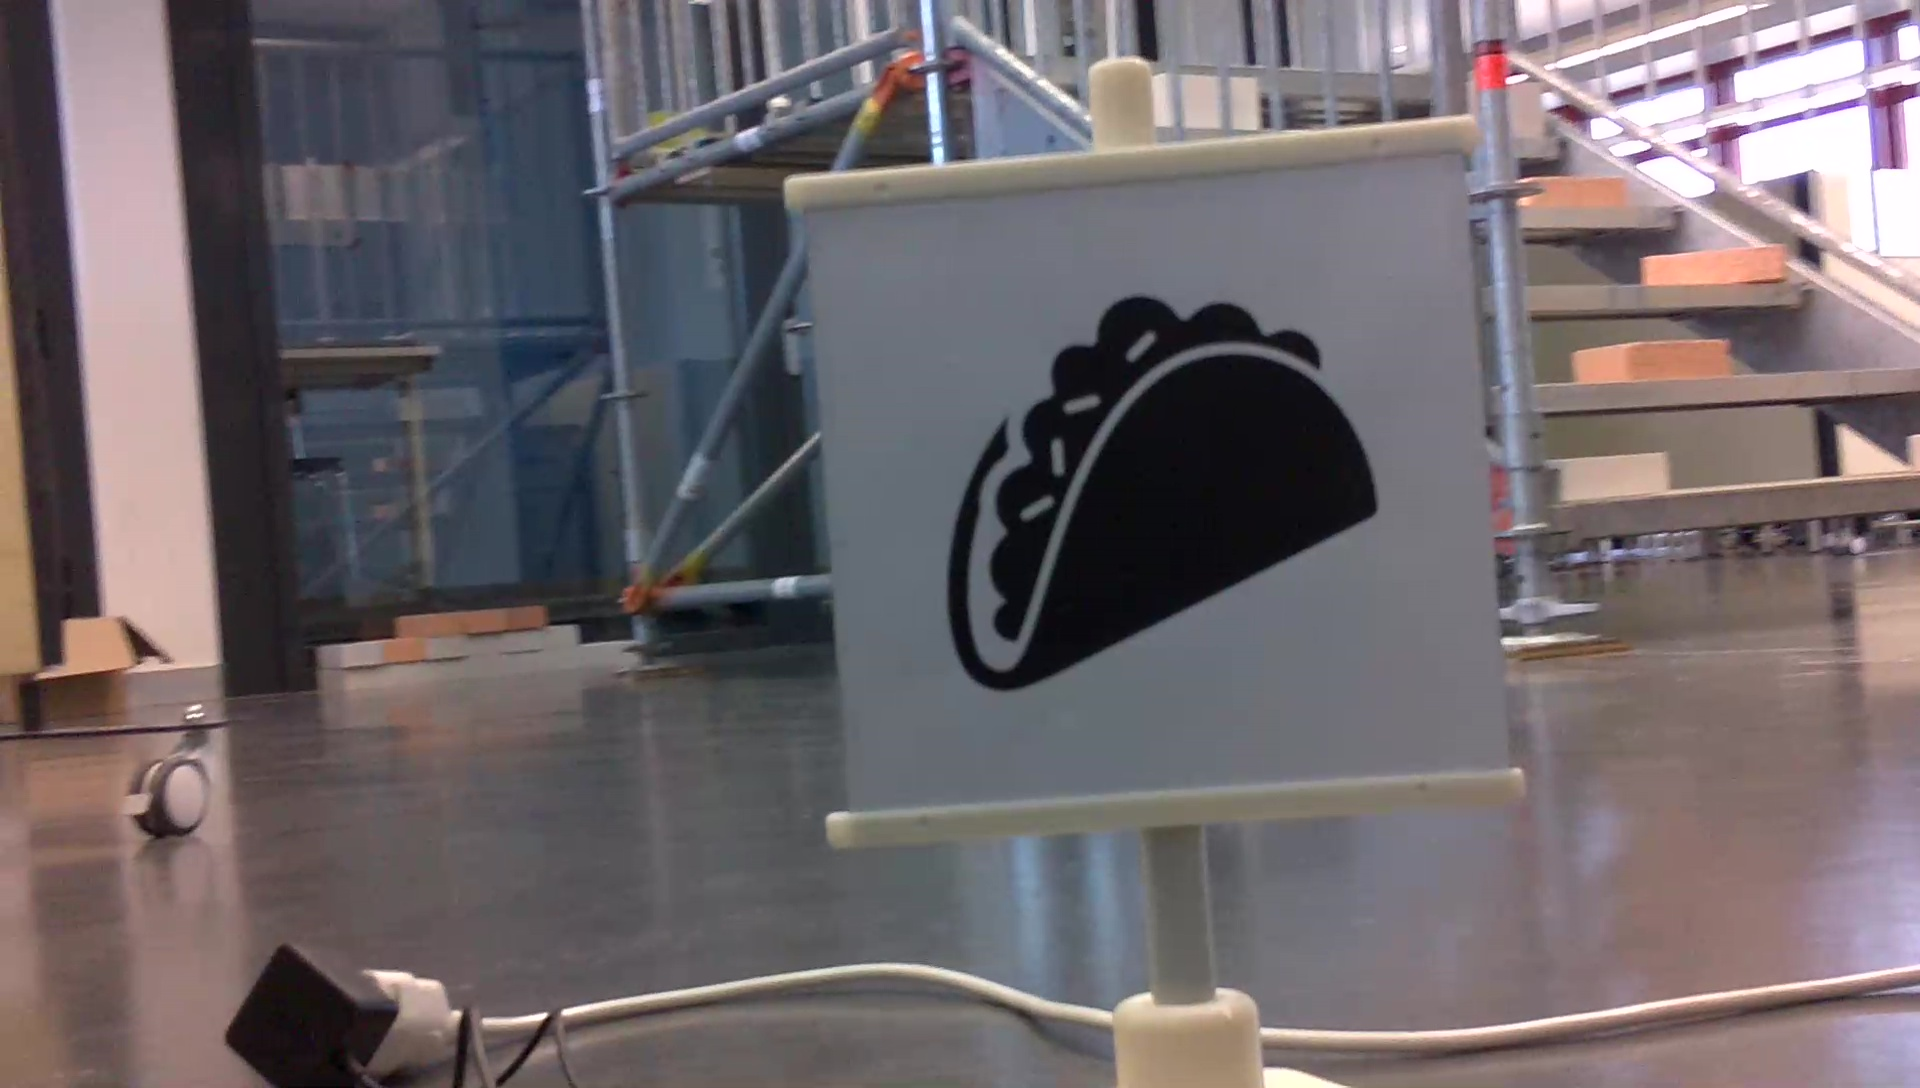brick: (1576, 343, 1721, 377), (1560, 452, 1663, 495), (1644, 249, 1782, 281), (1526, 175, 1633, 210)
taco: (930, 281, 1390, 706)
